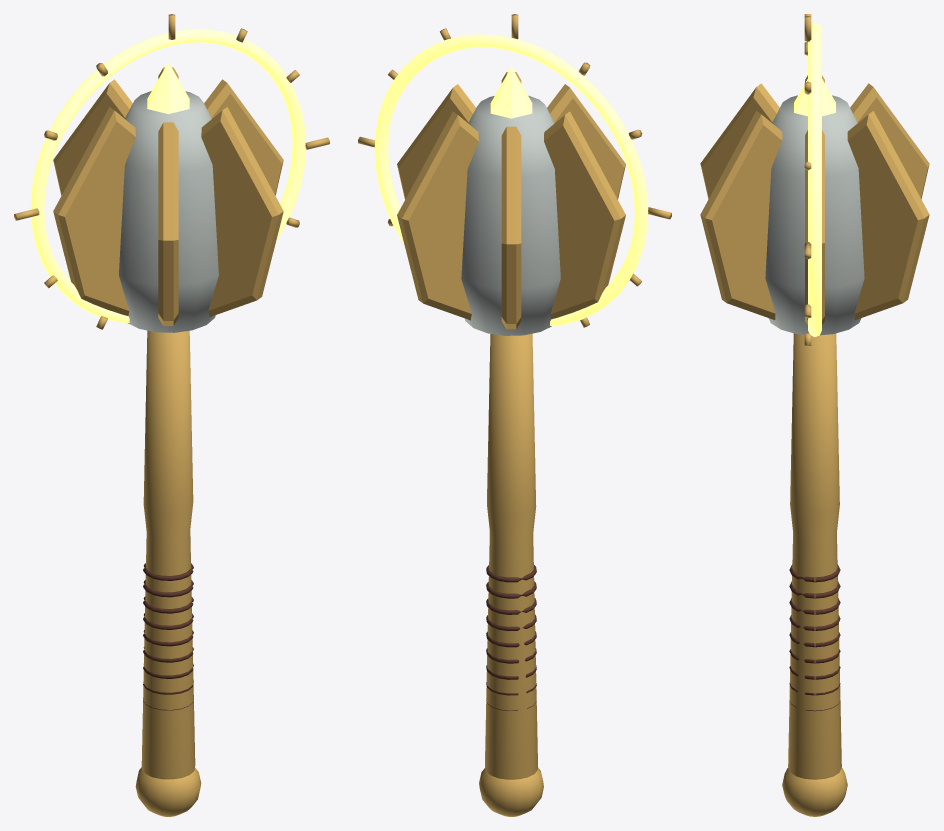
Rendered from cleric-mace-legendary.glb.
3 views of the same model, side by side, from view 1: azimuth 30°, elevation 25°; view 2: azimuth 150°, elevation 25°; view 3: azimuth 270°, elevation 25° (orthographic).
Parts seen in each view (by area): view 1: cleric-mace__legendary; view 2: cleric-mace__legendary; view 3: cleric-mace__legendary.
Part boxes in pixels (x1=…): cleric-mace__legendary: x1=14, y1=14, x2=329, y2=816; cleric-mace__legendary: x1=358, y1=14, x2=671, y2=816; cleric-mace__legendary: x1=700, y1=14, x2=929, y2=816.
Size of the model in its own units: 0.36 by 0.882 by 0.2302.
